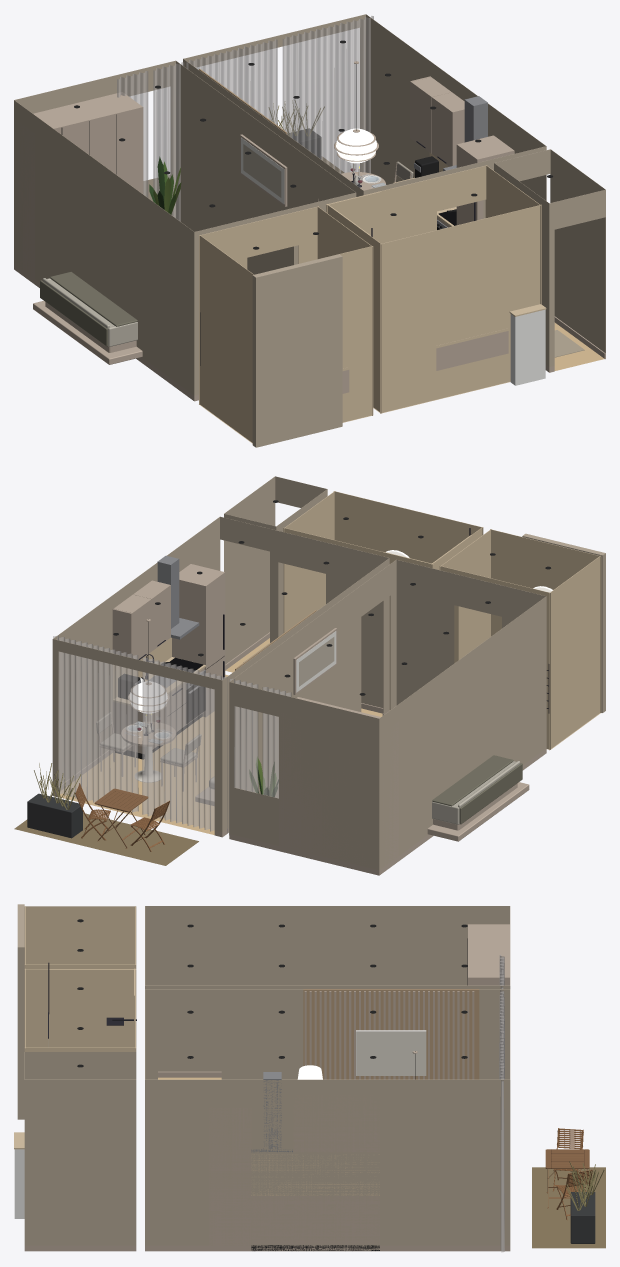
The model's file is unit-1.A-natura.glb.
The picture shows the model from 3 angles, top to bottom: view 1: azimuth 30°, elevation 25°; view 2: azimuth 150°, elevation 25°; view 3: azimuth 270°, elevation 25°; orthographic projection. The views are drawn at different scales.
Parts seen in each view (by area): view 1: int-wall, int-bathWall, int-sheer, int-joineryTall, int-joinery, int-wood, int-bedThrow, int-whiteGloss, int-showerWall, int-duvet, int-steel, int-paperLamp (+5 smaller); view 2: int-wall, int-bathWall, int-sheer, int-joineryTall, int-floor, int-joinery, int-deck, int-wood, int-bedThrow, int-skirting, int-outdoor, int-steel (+12 smaller); view 3: int-wall, int-bathWall, int-feature, int-joinery, int-joineryTall, int-wood, int-showerWall, int-deck, int-skirting, int-art:2:0, int-sheer, int-outdoor (+8 smaller).
Part boxes in pixels (bbox=[...]): int-wall: bbox=[14, 14, 605, 447]; int-bathWall: bbox=[199, 165, 541, 442]; int-sheer: bbox=[117, 16, 373, 221]; int-joineryTall: bbox=[14, 92, 514, 393]; int-joinery: bbox=[410, 76, 464, 227]; int-wood: bbox=[33, 61, 385, 364]; int-bedThrow: bbox=[40, 272, 137, 346]; int-whiteGloss: bbox=[510, 309, 545, 385]; int-showerWall: bbox=[326, 191, 380, 242]; int-duvet: bbox=[42, 278, 137, 346]; int-steel: bbox=[414, 96, 487, 228]; int-paperLamp: bbox=[336, 128, 376, 163]; int-wall: bbox=[52, 476, 605, 870]; int-bathWall: bbox=[283, 491, 601, 750]; int-sheer: bbox=[53, 635, 291, 834]; int-joineryTall: bbox=[172, 564, 398, 874]; int-floor: bbox=[60, 674, 382, 834]; int-joinery: bbox=[112, 580, 204, 753]; int-deck: bbox=[14, 813, 198, 865]; int-wood: bbox=[121, 619, 529, 841]; int-bedThrow: bbox=[432, 755, 522, 824]; int-skirting: bbox=[52, 632, 546, 875]; int-outdoor: bbox=[27, 793, 82, 838]; int-steel: bbox=[135, 555, 205, 693]; int-wall: bbox=[17, 904, 510, 1245]; int-bathWall: bbox=[24, 906, 136, 1051]; int-feature: bbox=[303, 989, 479, 1079]; int-joinery: bbox=[251, 1095, 379, 1244]; int-joineryTall: bbox=[209, 924, 509, 1250]; int-wood: bbox=[304, 991, 474, 1079]; int-showerWall: bbox=[48, 968, 136, 1047]; int-deck: bbox=[532, 1167, 605, 1248]; int-skirting: bbox=[24, 1071, 510, 1251]; int-art:2:0: bbox=[356, 1031, 426, 1075]; int-sheer: bbox=[499, 954, 504, 1252]; int-outdoor: bbox=[570, 1192, 595, 1243].
Size of the model in its own units: 6.46 by 2.8 by 8.41.
